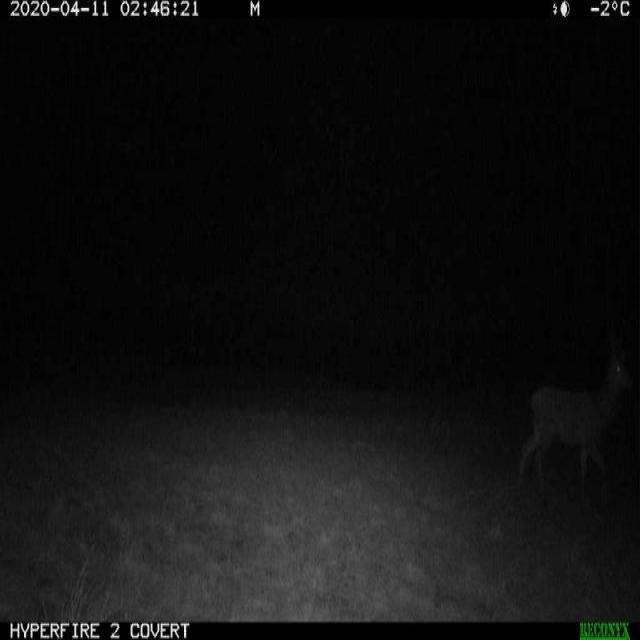deer: (512, 338, 636, 522)
